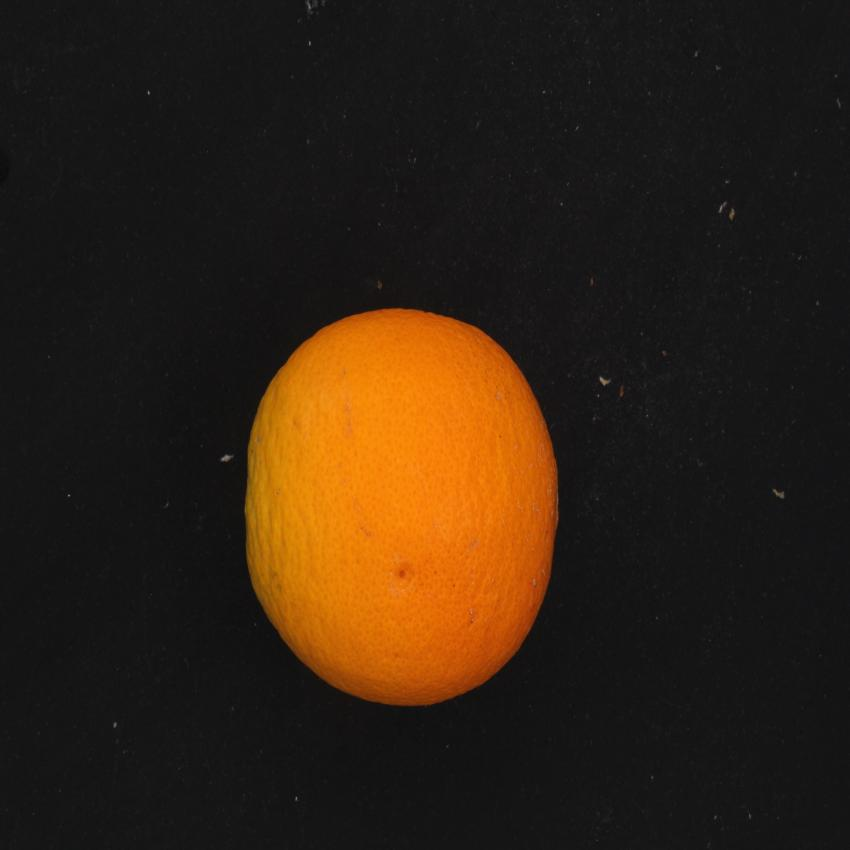Buen estado: (232, 291, 592, 728)
